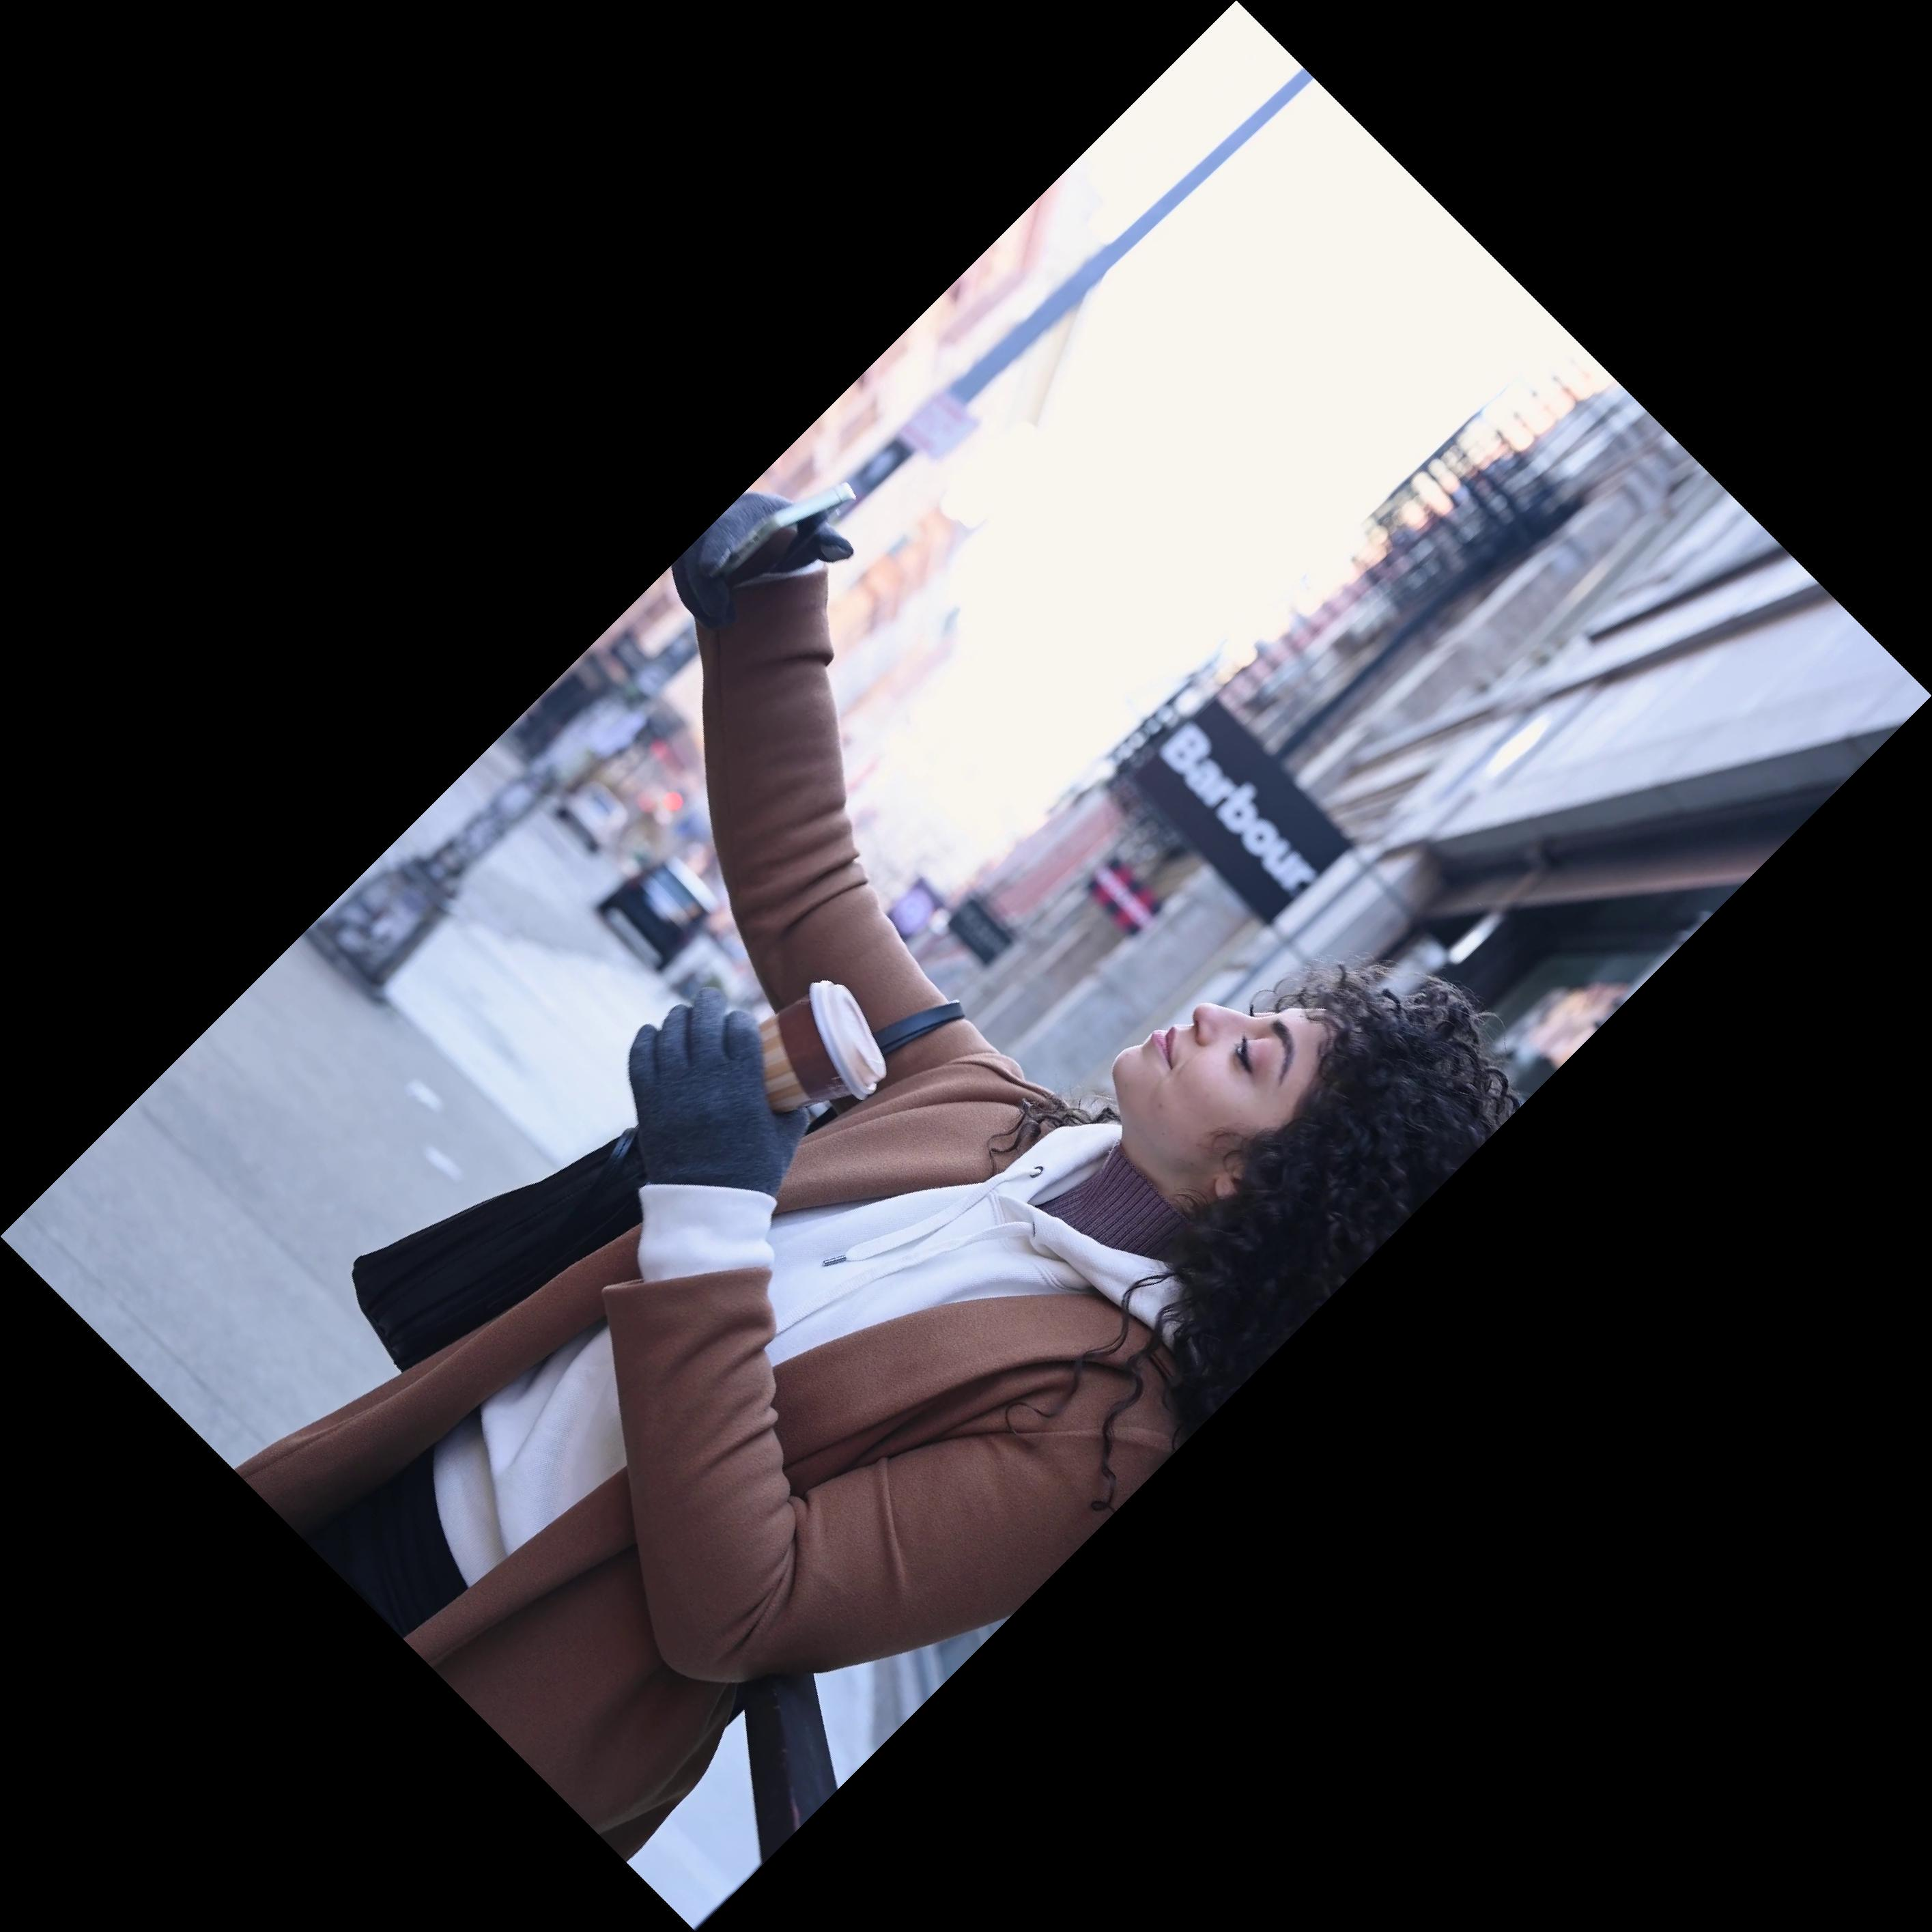phone: (706, 467, 862, 602)
